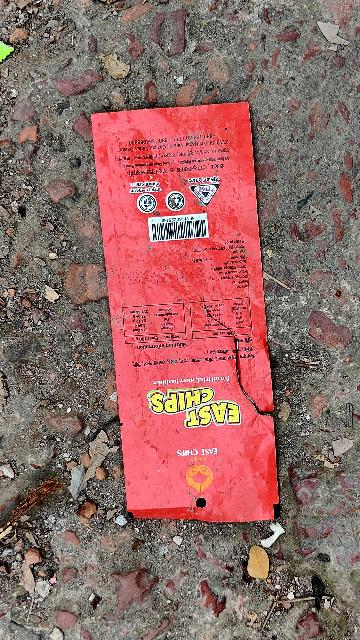packet: (90, 91, 286, 535)
